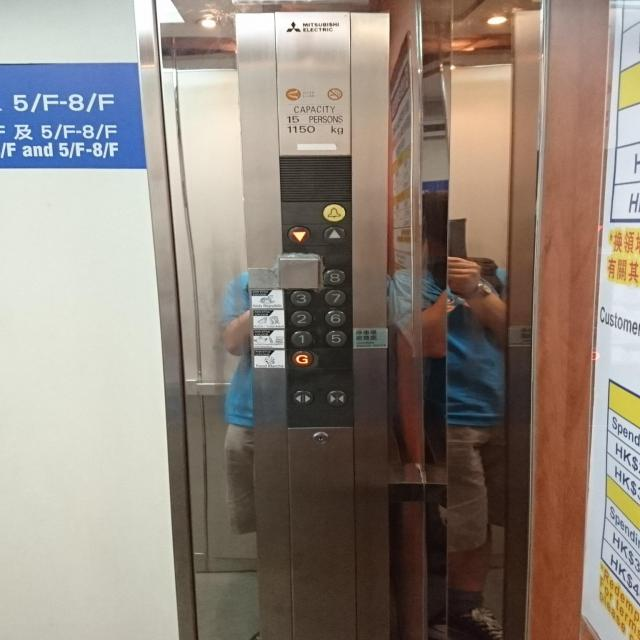1: (288, 329, 314, 348)
2: (289, 309, 313, 328)
3: (289, 288, 313, 308)
5: (323, 329, 348, 348)
6: (323, 308, 347, 328)
7: (323, 288, 347, 307)
8: (322, 267, 346, 287)
G: (291, 349, 314, 367)
alarm: (322, 203, 348, 222)
close: (324, 388, 348, 408)
down: (285, 223, 314, 245)
keyhole: (311, 429, 330, 446)
open: (291, 388, 314, 406)
up: (321, 225, 349, 244)
